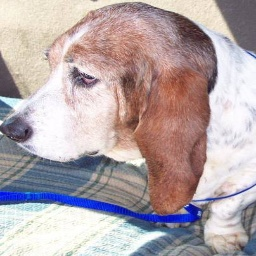dog: (3, 5, 256, 256)
